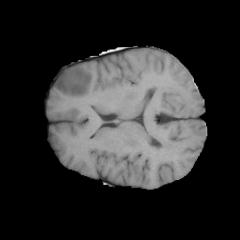glioma: (54, 65, 93, 97)
